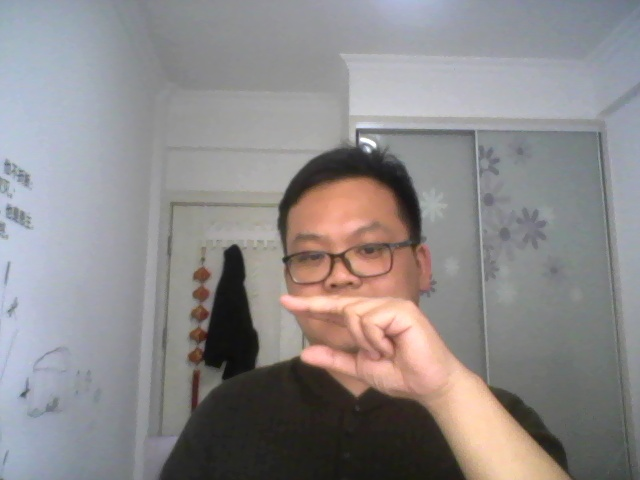No: (269, 285, 462, 403)
